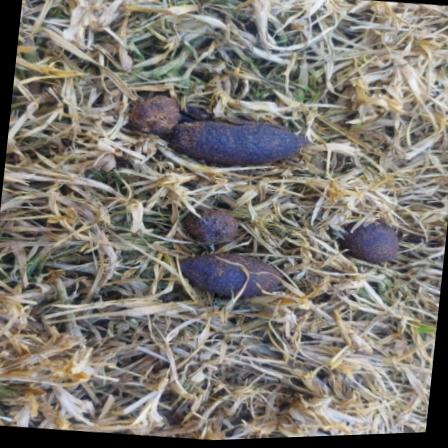dog-poop: (138, 79, 321, 180), (172, 195, 306, 309), (331, 208, 408, 269)
